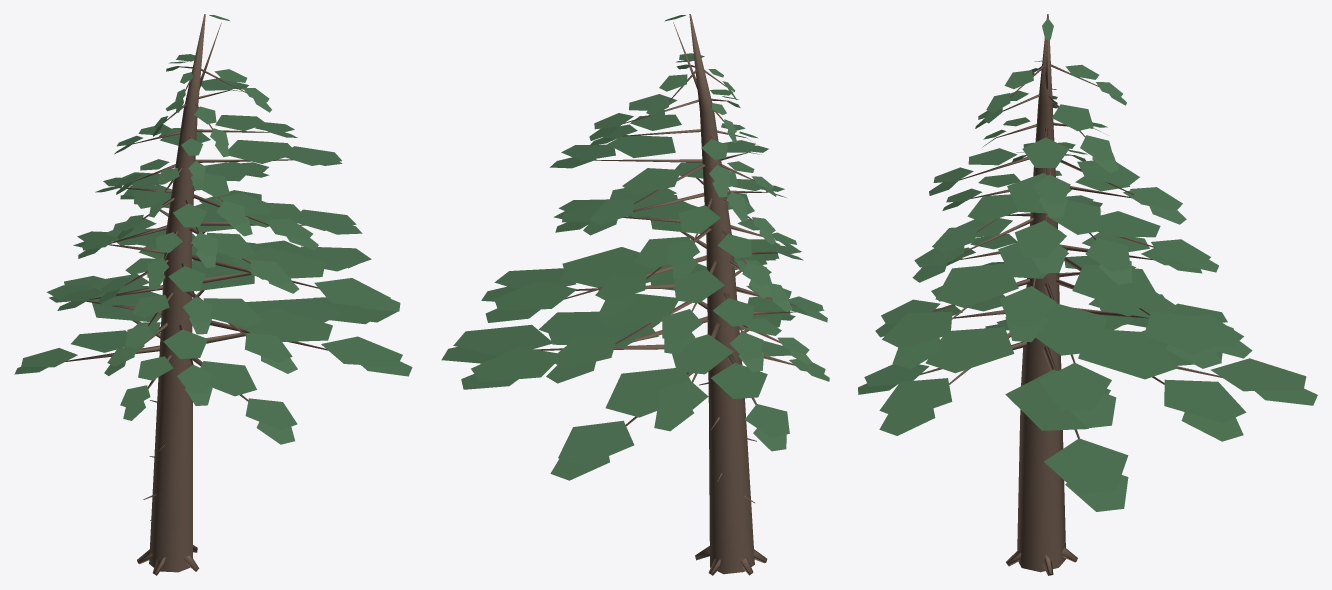
File: hemlock-windswept-lod1.glb
3 renders of one model, left to right at view 1: azimuth 30°, elevation 25°; view 2: azimuth 150°, elevation 25°; view 3: azimuth 270°, elevation 25°, orthographic. The views are drawn at different scales.
Parts seen in each view (by area): view 1: tree_hemlock-windswept_LOD1; view 2: tree_hemlock-windswept_LOD1; view 3: tree_hemlock-windswept_LOD1.
Boxes of the visible parts, x1=… form: tree_hemlock-windswept_LOD1: x1=14, y1=14, x2=412, y2=575; tree_hemlock-windswept_LOD1: x1=441, y1=14, x2=829, y2=575; tree_hemlock-windswept_LOD1: x1=858, y1=14, x2=1317, y2=575.
Bounding box in the file's own units: 10.86 × 15.52 × 11.42.
